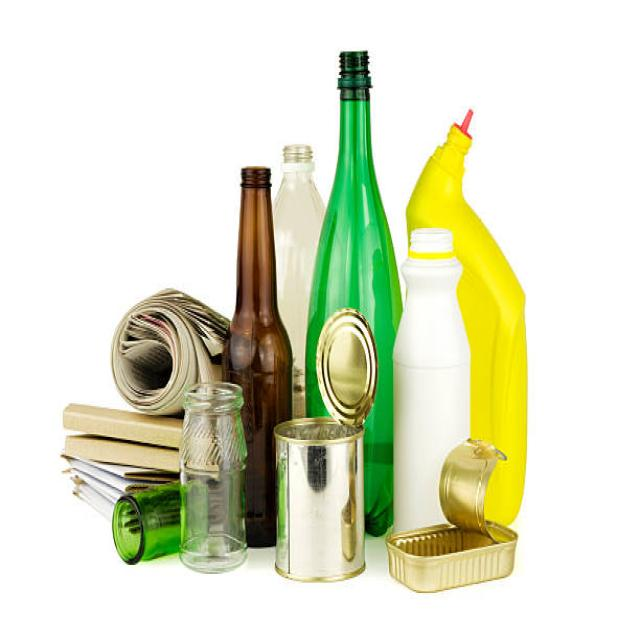cardboard: (51, 408, 173, 470)
glass: (182, 378, 251, 571), (102, 484, 172, 562)
metal: (385, 437, 531, 574), (269, 416, 374, 582), (317, 312, 376, 421)
paper: (99, 275, 222, 374)
